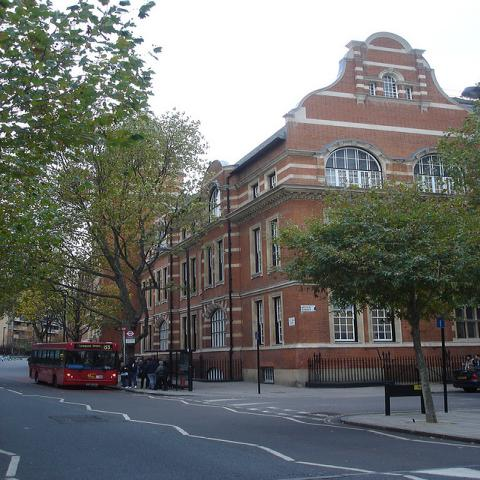bus: (26, 340, 121, 390)
